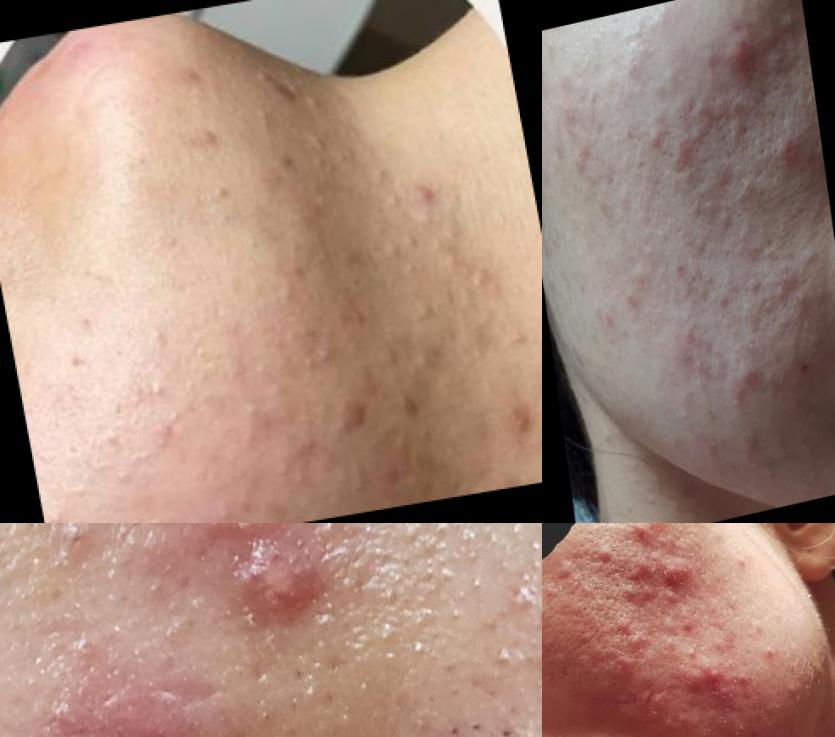blackhead: (408, 706, 514, 737), (510, 681, 543, 737), (623, 630, 655, 656), (710, 93, 732, 123), (747, 267, 768, 297), (670, 107, 693, 134), (693, 100, 710, 131), (613, 613, 632, 633)
cystic: (661, 552, 696, 597)
papular: (1, 670, 215, 737), (45, 524, 105, 589), (402, 173, 464, 232), (490, 397, 542, 457), (717, 23, 772, 73), (612, 573, 671, 613), (332, 404, 386, 446), (587, 185, 631, 227), (685, 652, 728, 694), (396, 386, 433, 433), (621, 548, 663, 587), (735, 350, 767, 396), (641, 115, 674, 158), (640, 681, 675, 718), (624, 524, 671, 550), (775, 128, 803, 166), (594, 541, 624, 568), (546, 558, 576, 585), (570, 143, 596, 173), (678, 320, 701, 352), (669, 254, 693, 282), (679, 344, 700, 373), (791, 286, 813, 312), (624, 287, 645, 314), (715, 288, 734, 312), (676, 403, 695, 426)
purulent: (205, 524, 268, 556)
sebo-crystan-conglo: (218, 525, 342, 645)
whitehead: (353, 137, 418, 234), (401, 280, 469, 345), (689, 166, 742, 247), (615, 17, 666, 76), (303, 120, 342, 178), (300, 341, 346, 388), (468, 261, 511, 311), (244, 100, 293, 140), (238, 392, 276, 436), (144, 365, 183, 404), (99, 414, 131, 461), (270, 457, 310, 494), (499, 322, 540, 357), (172, 399, 206, 430), (42, 501, 82, 524), (618, 318, 637, 345), (543, 33, 560, 59)
